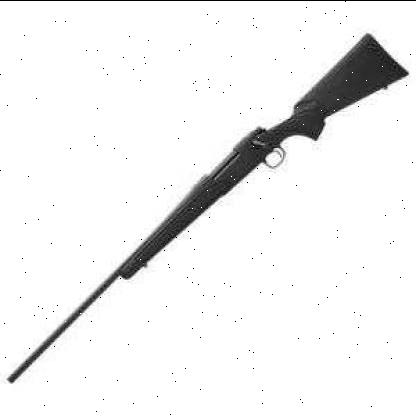rifle: (2, 15, 414, 392)
